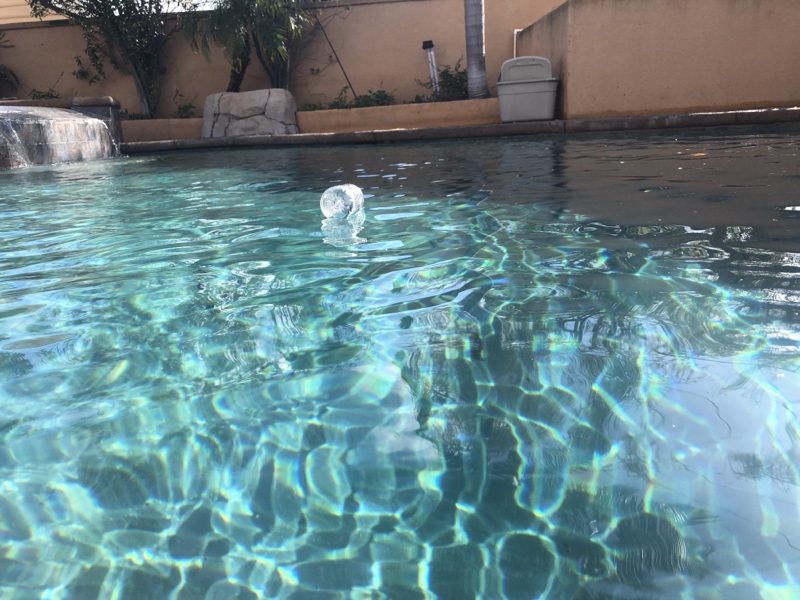Plastic Bottle: (317, 181, 365, 224)
